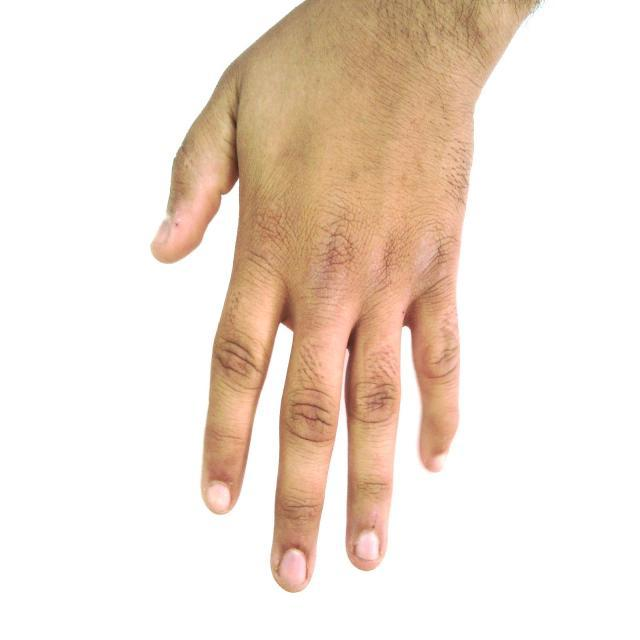Fingernail: (278, 549, 306, 587), (356, 532, 380, 560), (208, 483, 230, 512), (153, 218, 171, 247), (429, 456, 445, 472)
